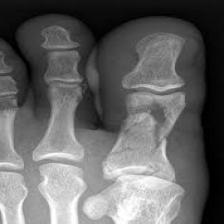comminuted-fracture: (3, 0, 206, 224)
